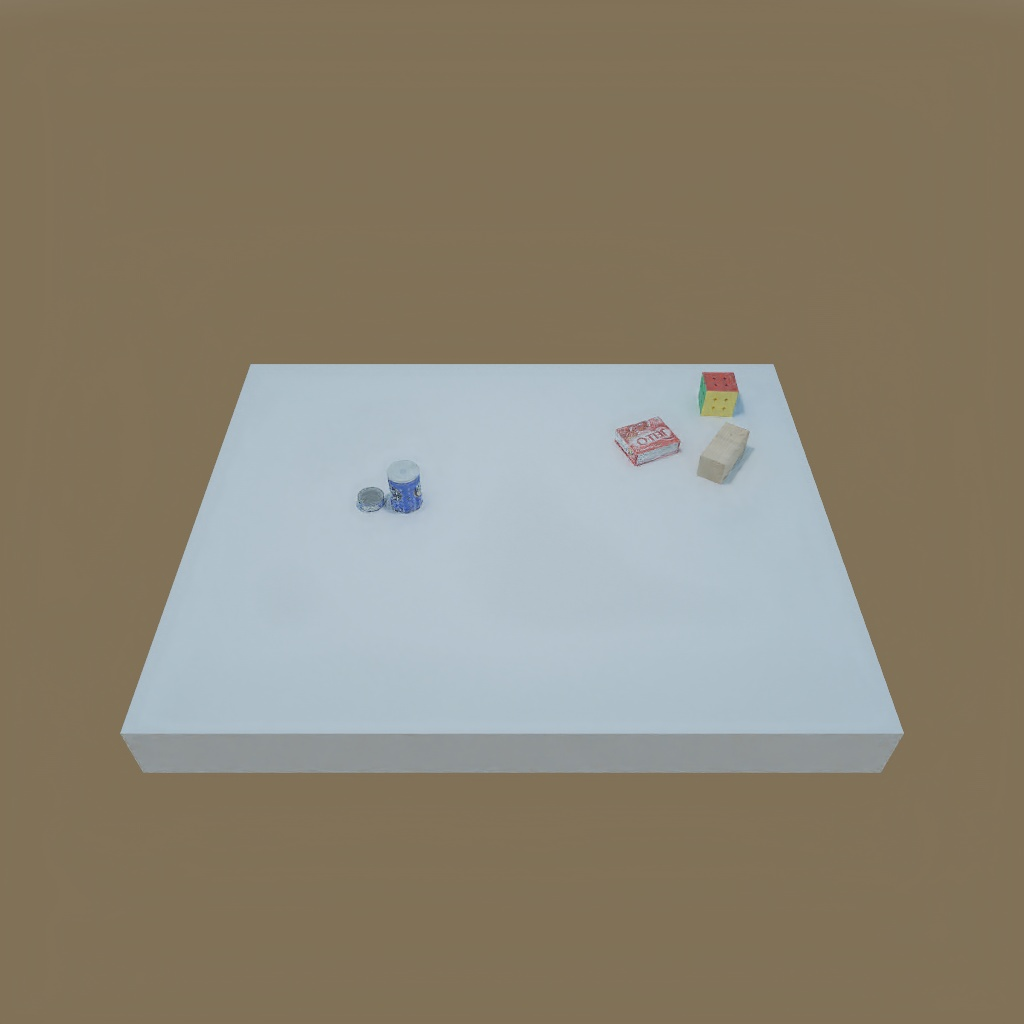gelatin_box: (612, 418, 683, 462)
master_chef_can: (382, 460, 427, 518)
rubiks_cube: (693, 373, 739, 420)
wood_block: (696, 424, 749, 489)
